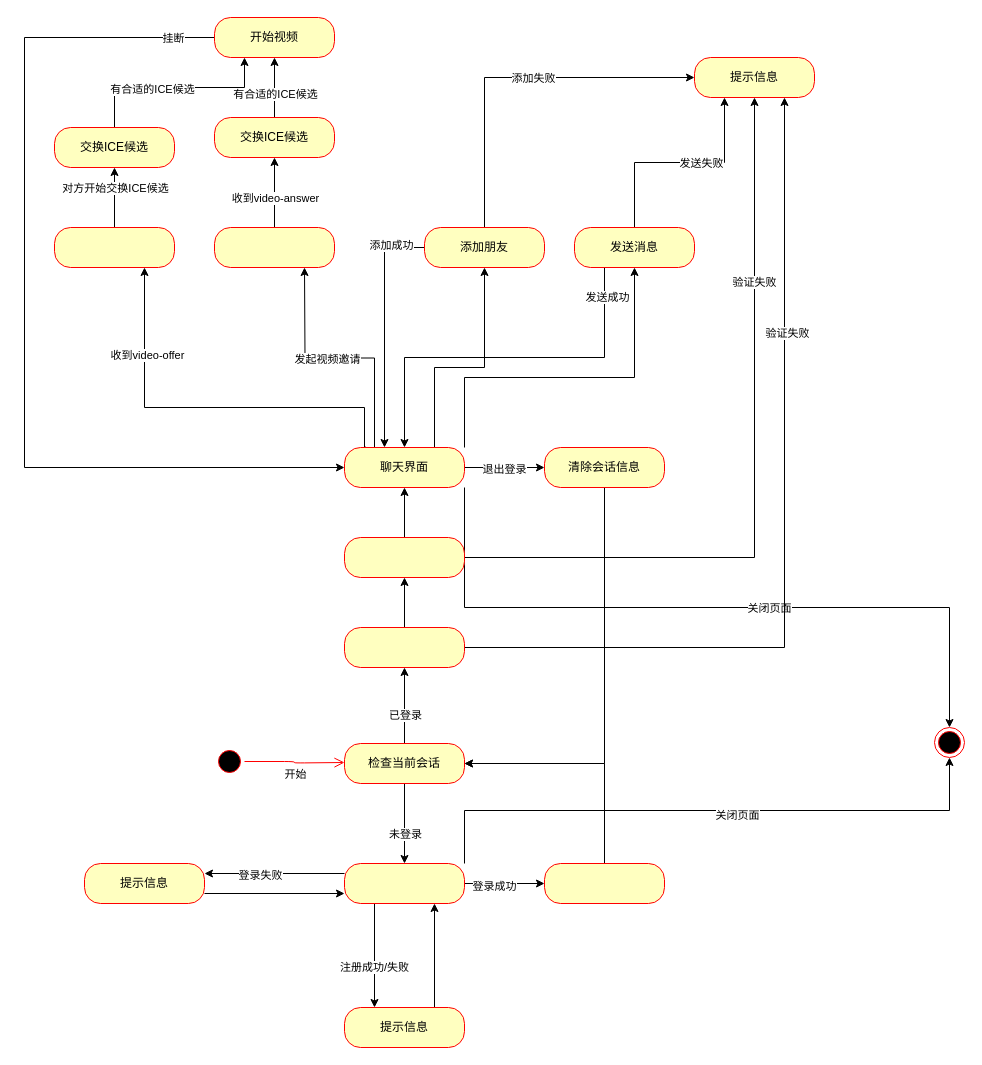
The diagram is 982 pixels wide and 1065 high, and some of its shapes have lost their labels. Each missing label, with the centre of its shape:
"刷新朋友列表" goes at (x=404, y=647).
"刷新消息列表" goes at (x=404, y=557).
"发送本地描述符 发送video-answer" goes at (x=114, y=247).
"发送本地描述符 发送video-offer" goes at (x=274, y=247).
"登录/注册界面" goes at (x=404, y=883).
"记录会话信息" goes at (x=604, y=883).
